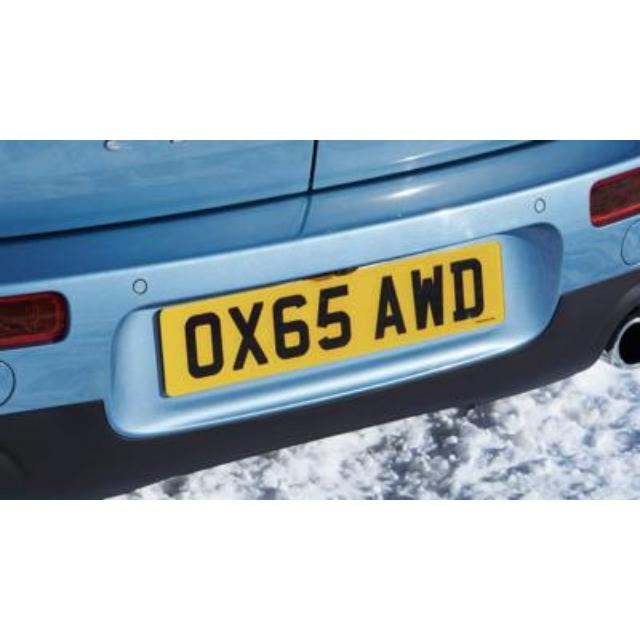plate: (170, 239, 494, 397)
